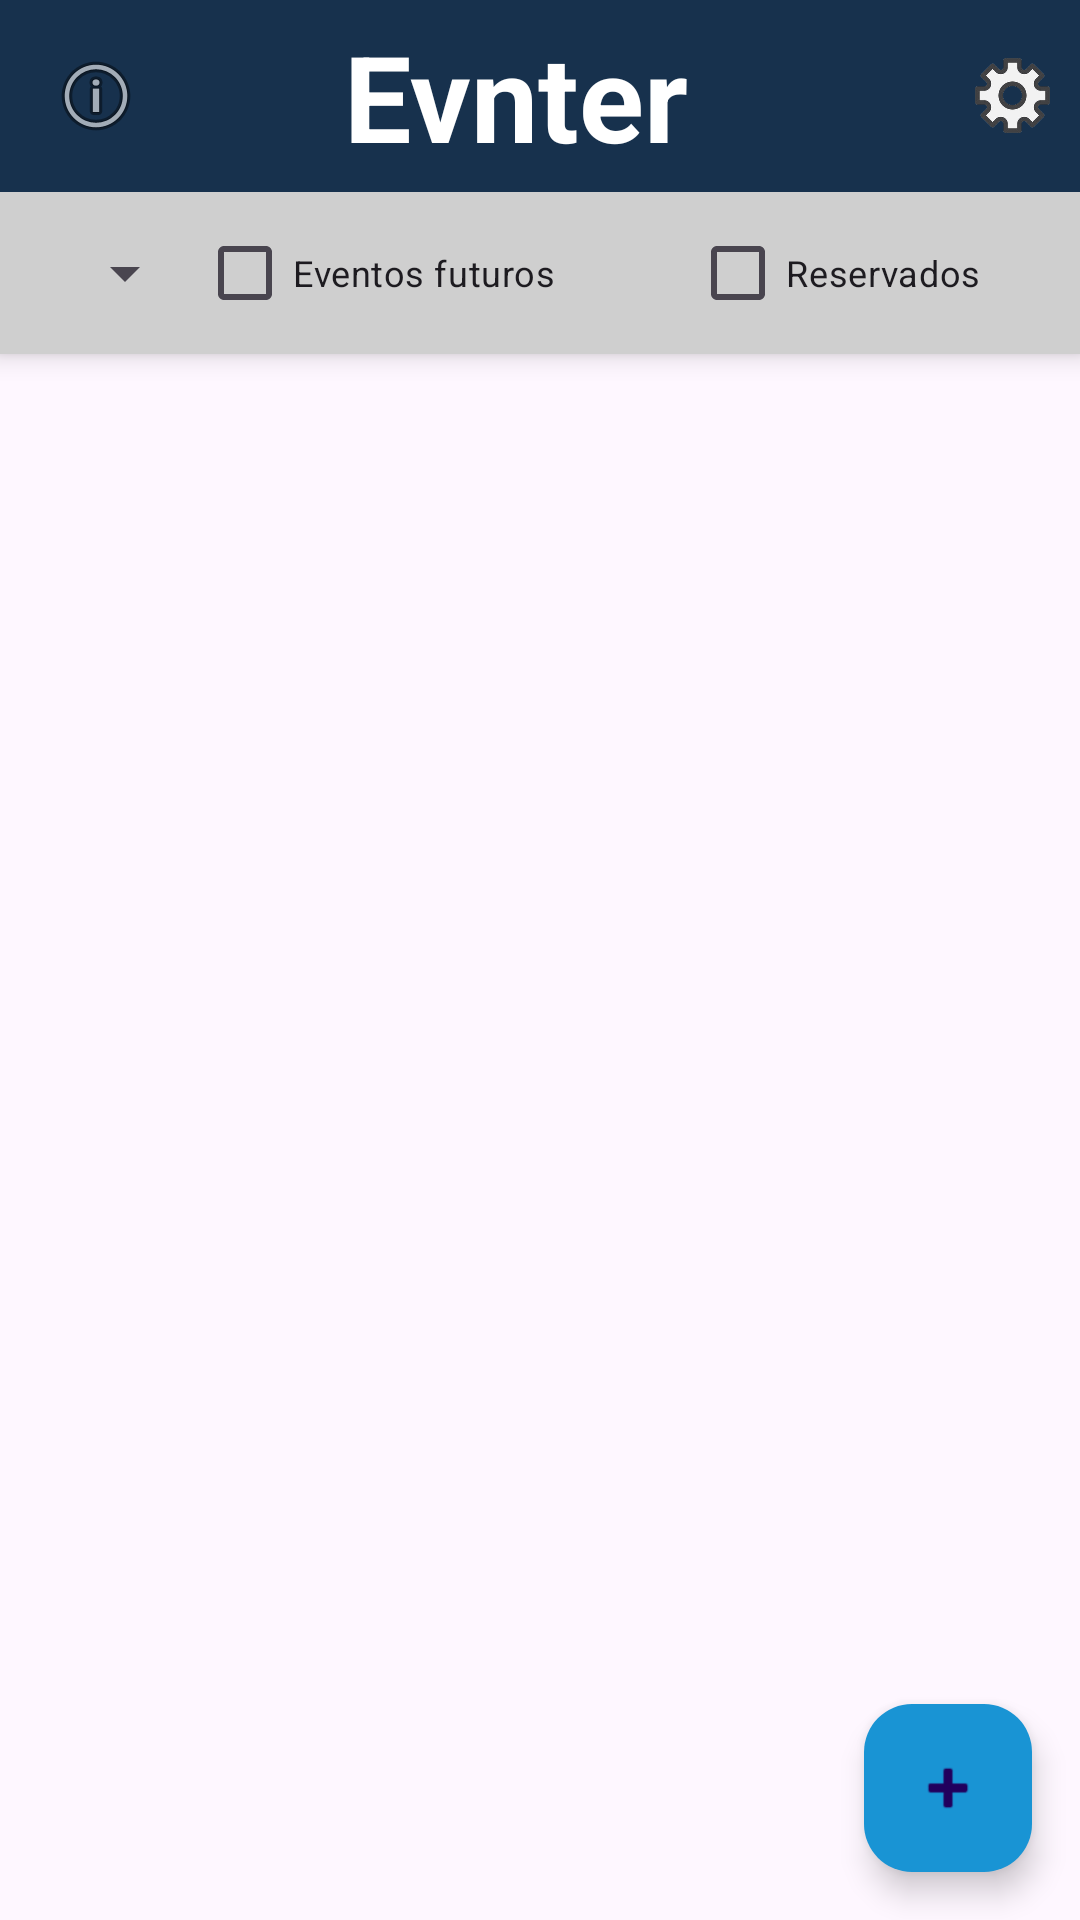

Where icons sit on this 1080 × 1920 app screen, as (x1, y1, x2, y2):
Adicionar Evento: (864, 1704, 1032, 1872)
Info: (62, 62, 130, 130)
settings: (975, 58, 1050, 133)
